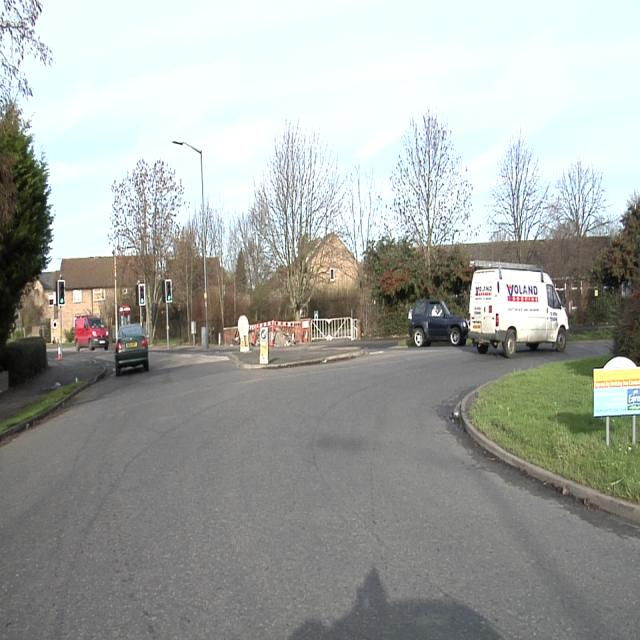Building: (44, 256, 113, 340)
Car: (410, 300, 466, 346), (115, 324, 149, 375), (75, 316, 109, 350)
Road: (0, 341, 624, 622)
Tree: (241, 113, 474, 333), (488, 130, 636, 310), (251, 125, 346, 317), (108, 159, 184, 338), (1, 106, 52, 351), (170, 213, 205, 341), (205, 205, 225, 326)
Truck_Bus: (469, 263, 567, 355)
